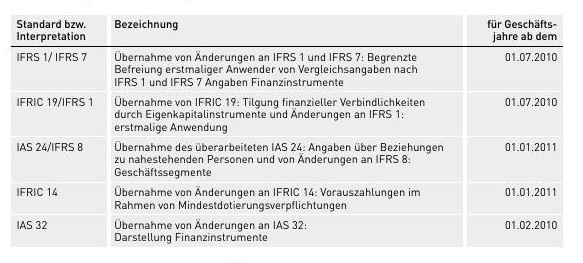table: (0, 0, 583, 263)
